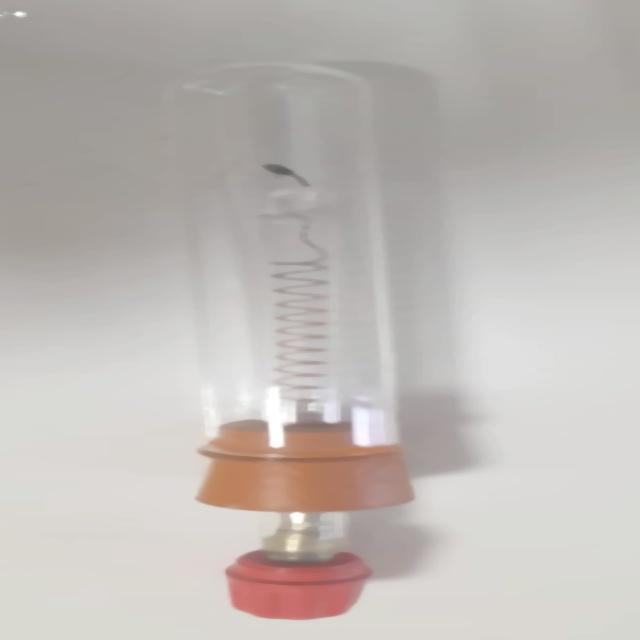Electrode: (109, 47, 448, 623)
